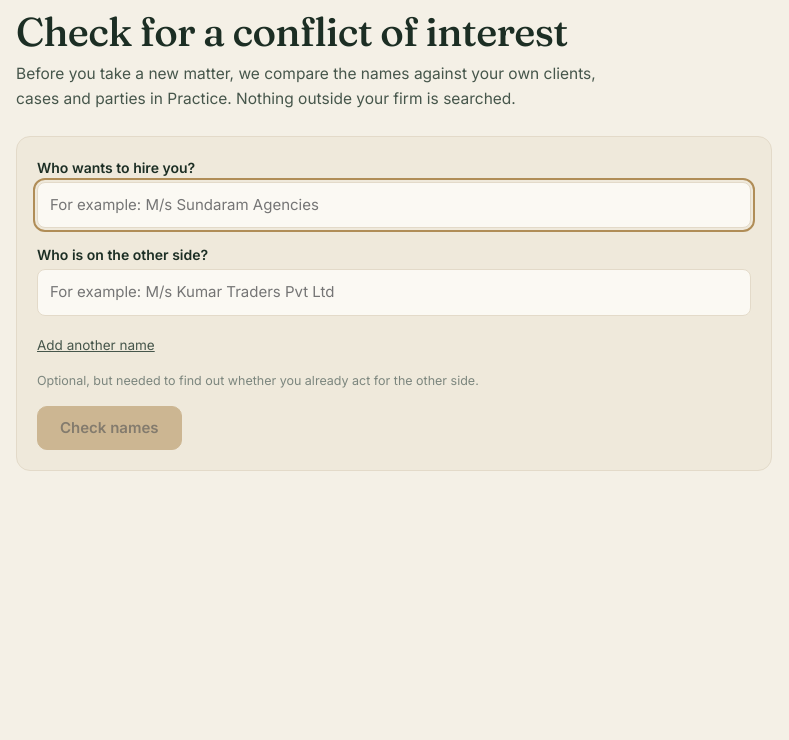
Test: ConflictCheck › never says clear when there is nothing to check against
In the field labelled "Who wants to hire you?": (394, 205) [37, 182, 751, 228], type "Rajesh Sharma"
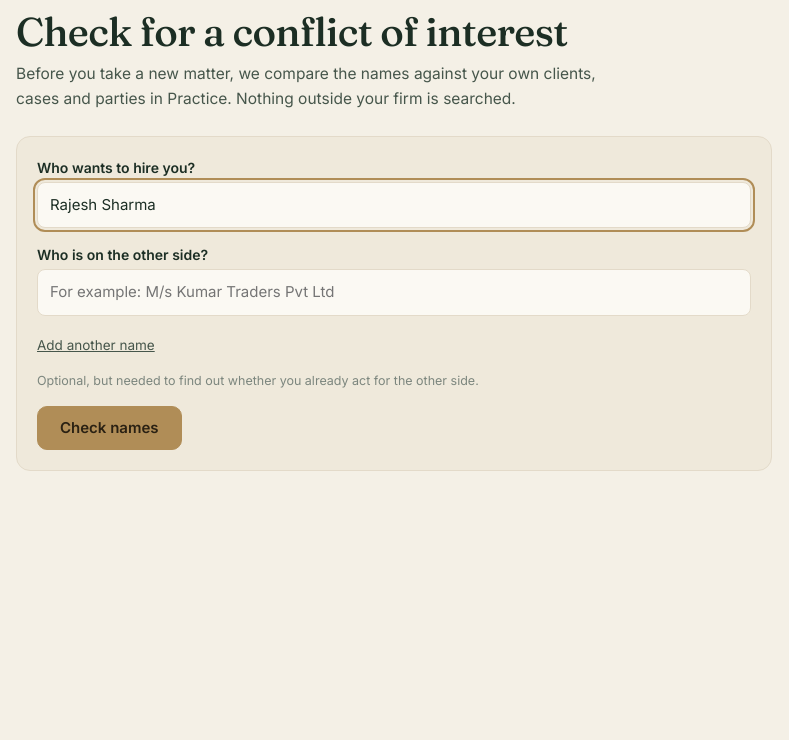
Click the button "Check names": (109, 428) [37, 406, 182, 450]
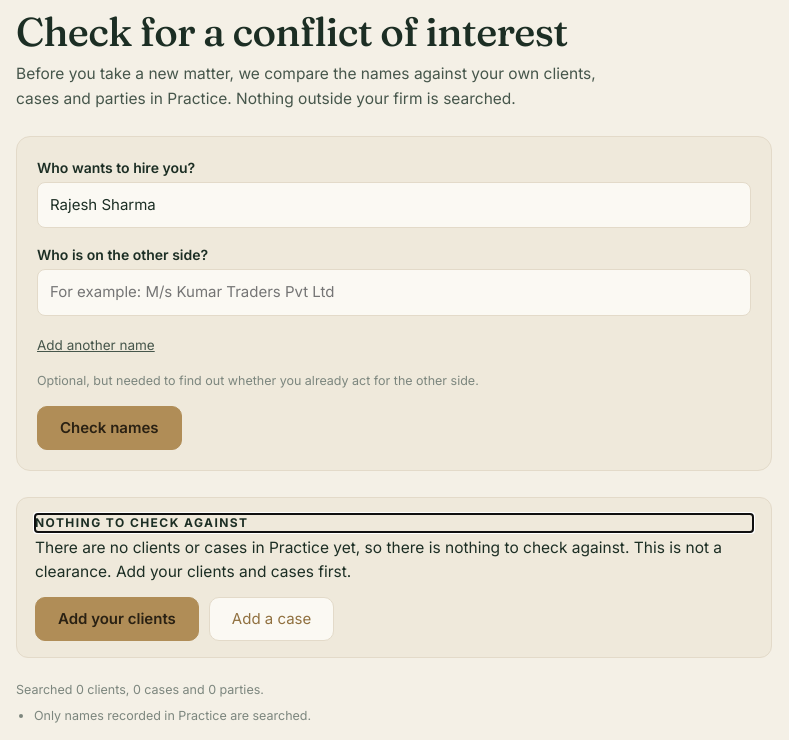
Expected: the text "Nothing to check against" is shown, [35, 515, 248, 530]
Expected: the link "Add your clients" is shown, [35, 597, 199, 641]
